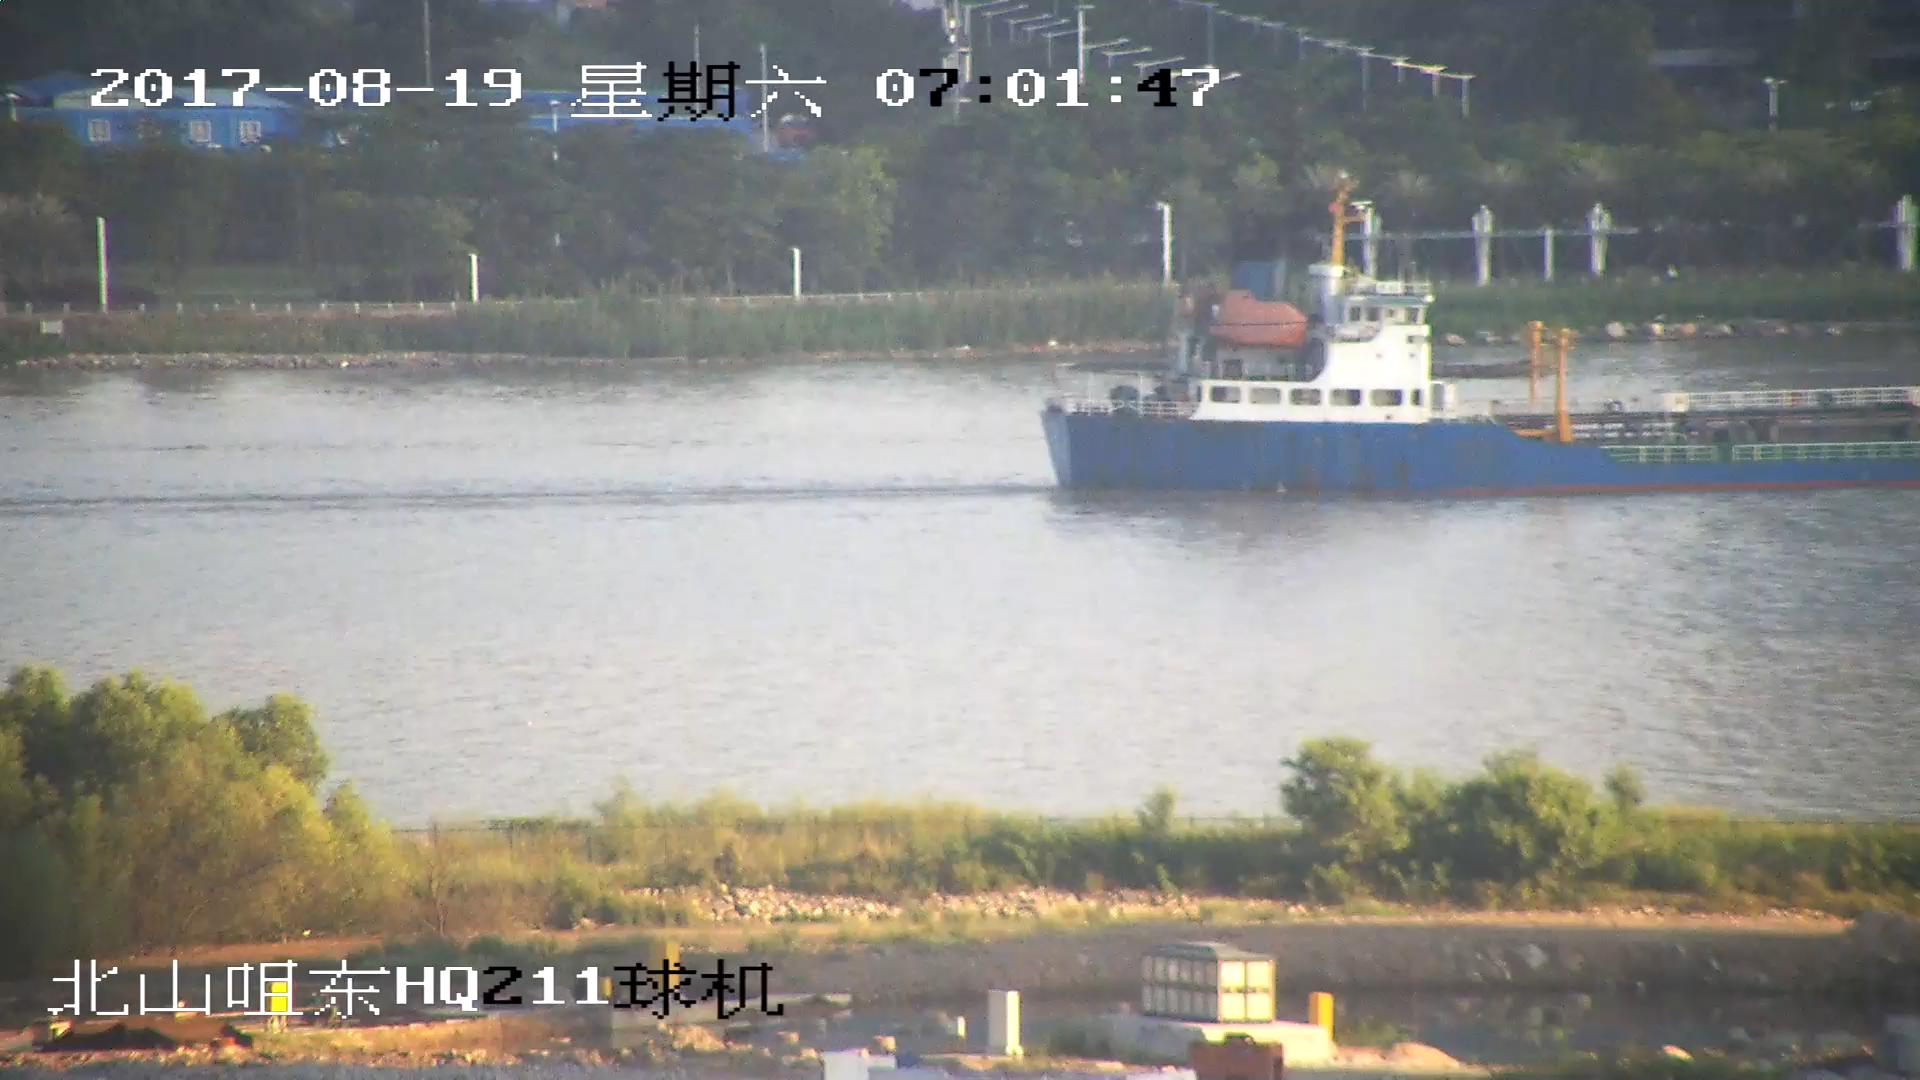general cargo ship: (1040, 205, 1920, 496)
